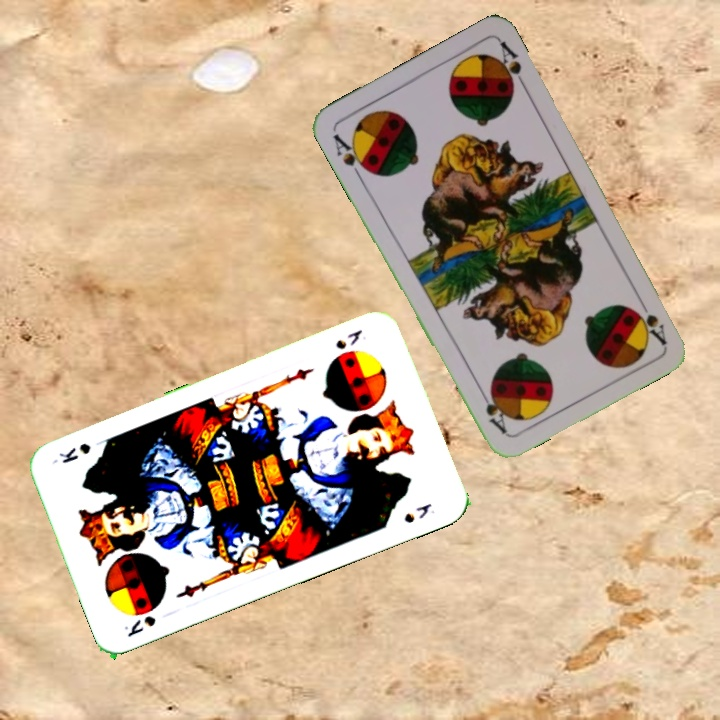SA: (328, 129, 374, 183), (630, 292, 669, 347)
SK: (120, 611, 159, 640), (331, 325, 369, 353)
